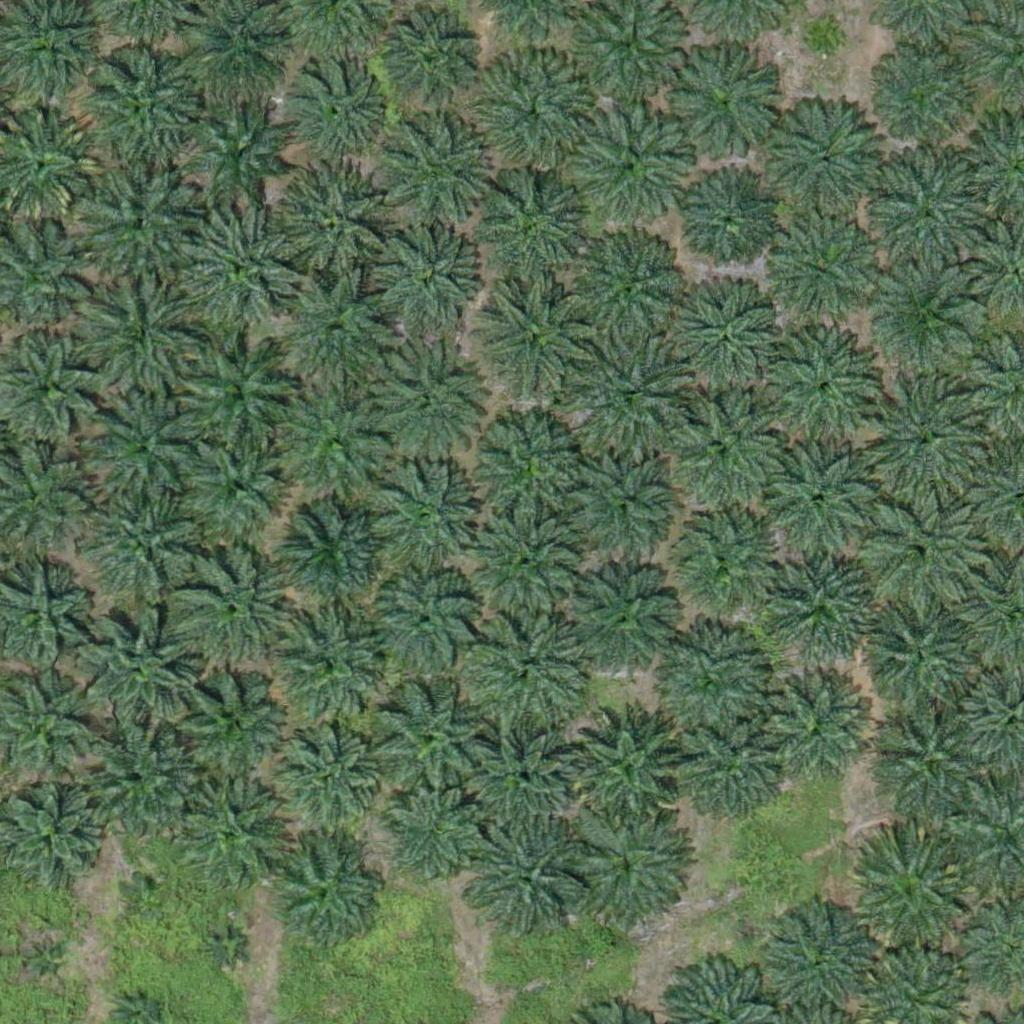Kelapa_Sawit: (867, 154, 992, 280), (566, 228, 691, 354), (473, 47, 598, 173), (472, 169, 597, 295), (472, 281, 597, 407), (267, 160, 392, 286), (275, 271, 400, 397), (171, 206, 296, 332), (79, 41, 204, 167), (77, 161, 202, 287), (67, 276, 192, 402), (83, 384, 208, 510), (81, 478, 206, 604), (76, 613, 201, 739), (76, 728, 201, 854), (173, 323, 298, 449), (177, 422, 302, 548), (173, 543, 298, 669), (163, 656, 288, 782), (265, 378, 390, 504), (359, 460, 484, 586), (362, 337, 487, 463), (364, 680, 489, 806), (469, 500, 594, 626), (468, 608, 593, 734), (464, 816, 589, 942), (650, 390, 775, 516), (563, 701, 688, 827), (567, 805, 692, 931), (860, 375, 985, 501), (856, 490, 981, 616), (564, 100, 689, 225), (469, 406, 594, 531), (655, 501, 780, 626), (644, 619, 769, 744), (847, 834, 972, 959), (265, 717, 378, 831), (277, 610, 390, 724), (378, 779, 491, 893), (869, 262, 982, 375), (763, 216, 876, 329), (766, 98, 879, 211), (269, 836, 382, 949), (280, 498, 393, 611), (564, 564, 677, 677), (565, 450, 678, 563), (578, 335, 691, 448), (670, 709, 783, 822), (670, 39, 782, 152), (680, 285, 792, 398), (366, 221, 478, 334), (382, 115, 494, 228), (176, 784, 288, 897), (370, 568, 482, 681), (462, 724, 574, 837), (761, 672, 873, 785), (768, 547, 880, 660), (760, 444, 872, 557), (765, 334, 877, 447), (865, 604, 977, 717), (872, 702, 984, 815), (873, 44, 973, 145), (680, 171, 780, 272), (382, 9, 482, 110), (287, 59, 387, 160), (775, 910, 875, 1011), (189, 100, 289, 200), (799, 15, 849, 65), (201, 922, 251, 972), (17, 937, 67, 987), (120, 868, 170, 918)
